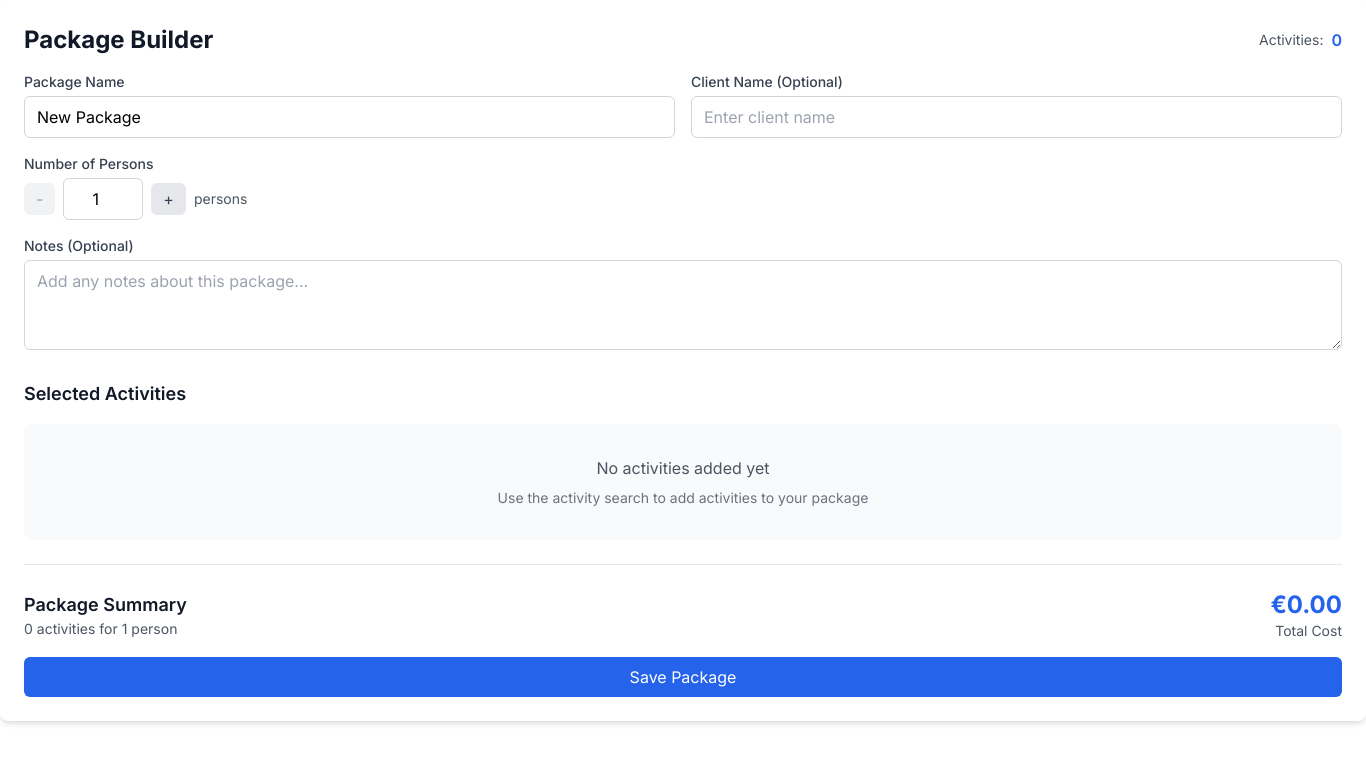
PackageBuilder Component › shows error when trying to save empty package
Step 1. Click the button "Save Package" → click(683, 677), box left=24, top=657, right=1342, bottom=697
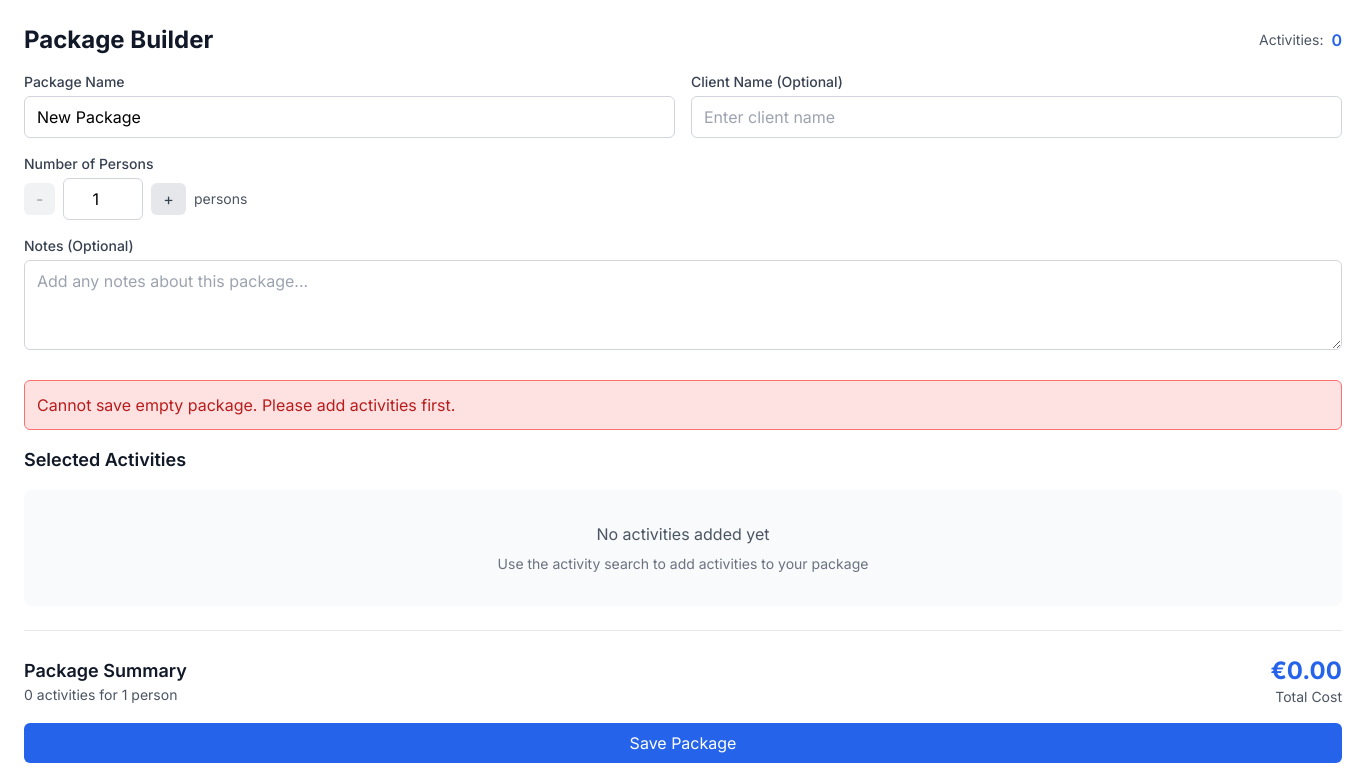
Expected: the text "Cannot save empty package. Please add activities first." is shown, left=24, top=380, right=1342, bottom=430
